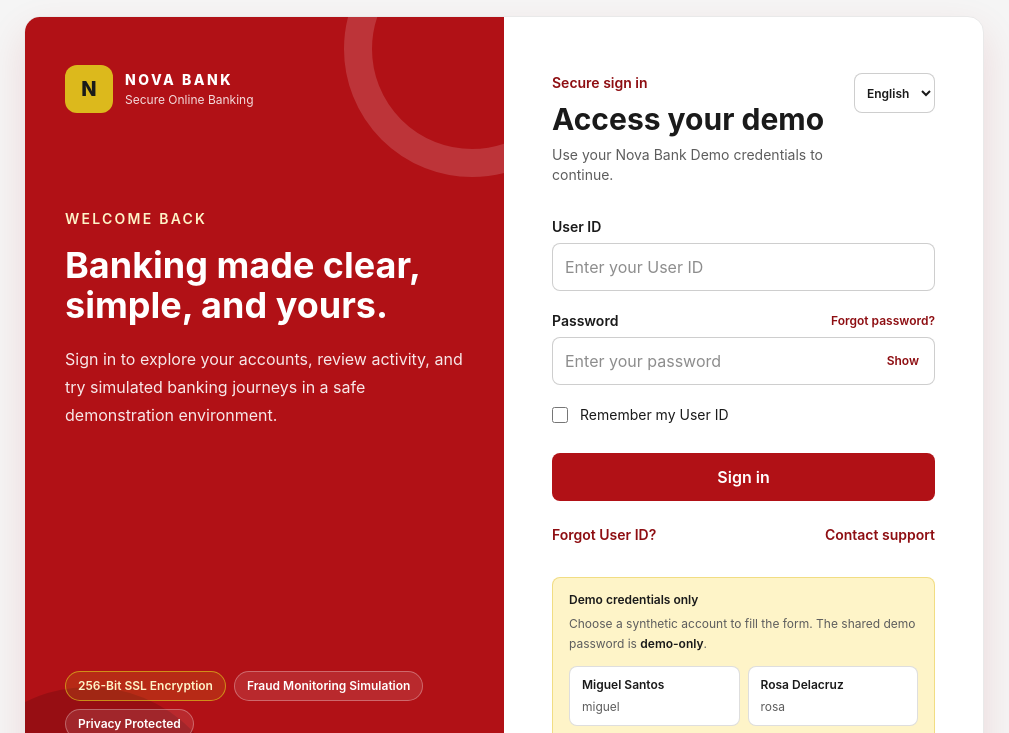
Scenario: LoginPage › shows an authentication error for invalid credentials
In the field labelled "User ID": (744, 267) 552,243 -> 935,291, type "user-miguel-santos"
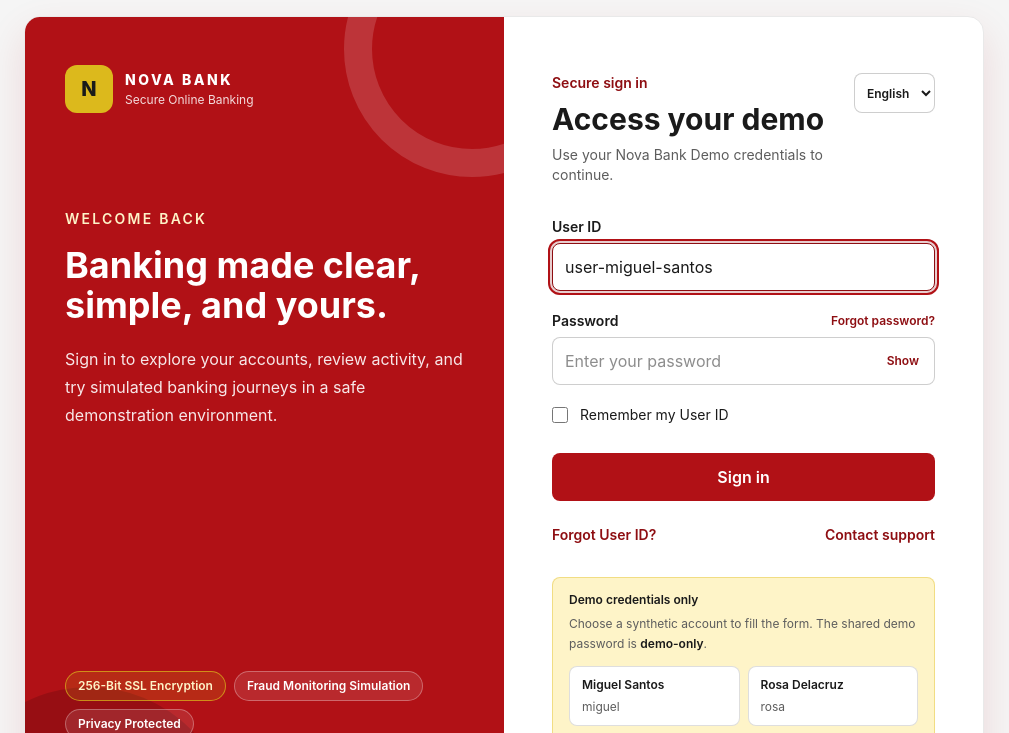
In the password field labelled "Password": (744, 361) 552,337 -> 935,385, type "incorrect-demo-password"
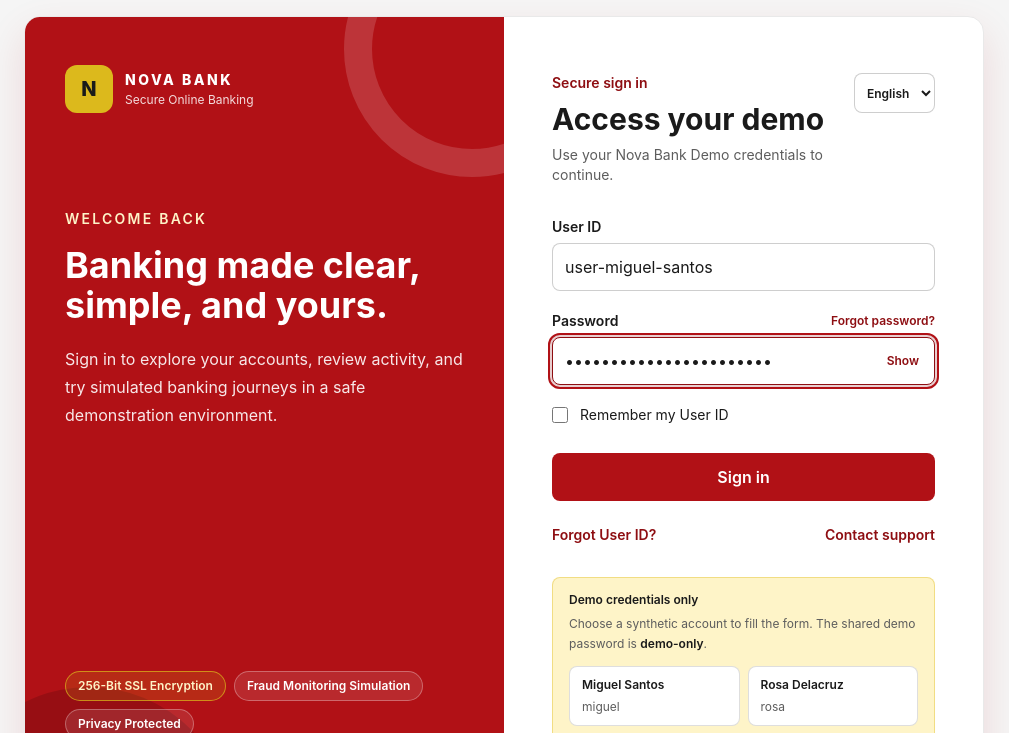
Click the button "Sign in": click(744, 477) 552,453 -> 935,501
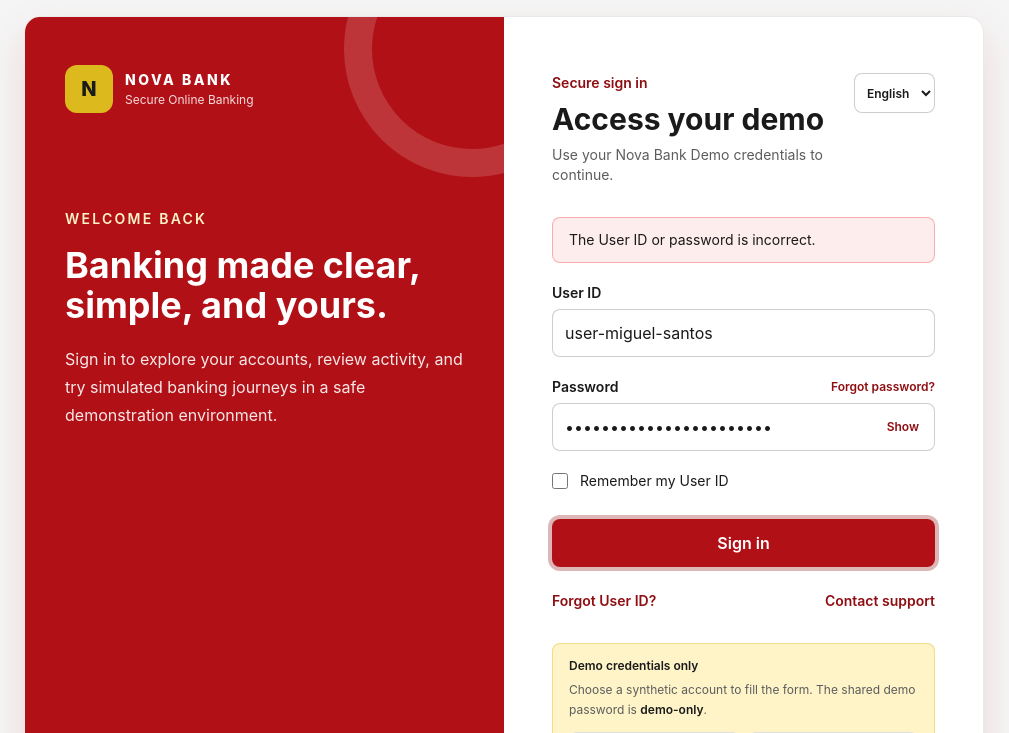
Check: the message reads "The User ID or password is incorrect.", box 569,231 -> 816,248
